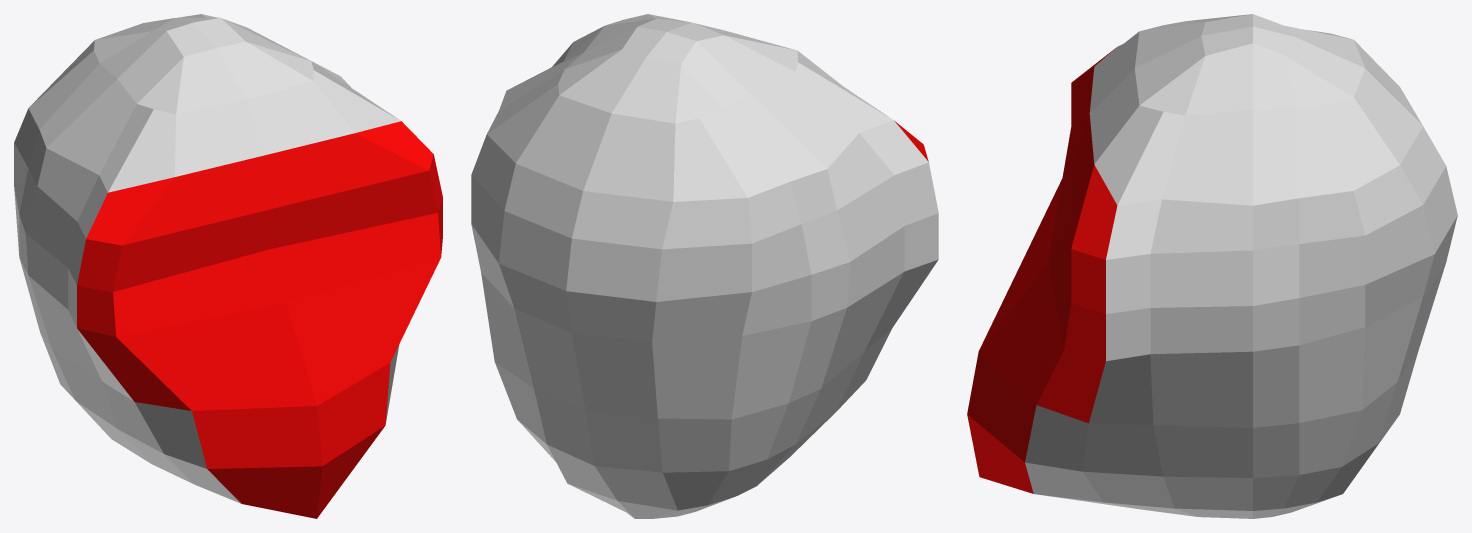
Rendered from Orangután.fbx.
The picture shows the model from 3 angles, left to right: view 1: azimuth 30°, elevation 25°; view 2: azimuth 150°, elevation 25°; view 3: azimuth 270°, elevation 25°; orthographic projection. The views are drawn at different scales.
Visible parts, largest first — view 1: Orangután; view 2: Orangután; view 3: Orangután.
Boxes of the visible parts, x1,y1,x2,y2 form: Orangután: [14, 14, 442, 518]; Orangután: [471, 14, 938, 518]; Orangután: [967, 14, 1457, 518].
Size of the model in its own units: 40.53 by 45 by 42.45.
